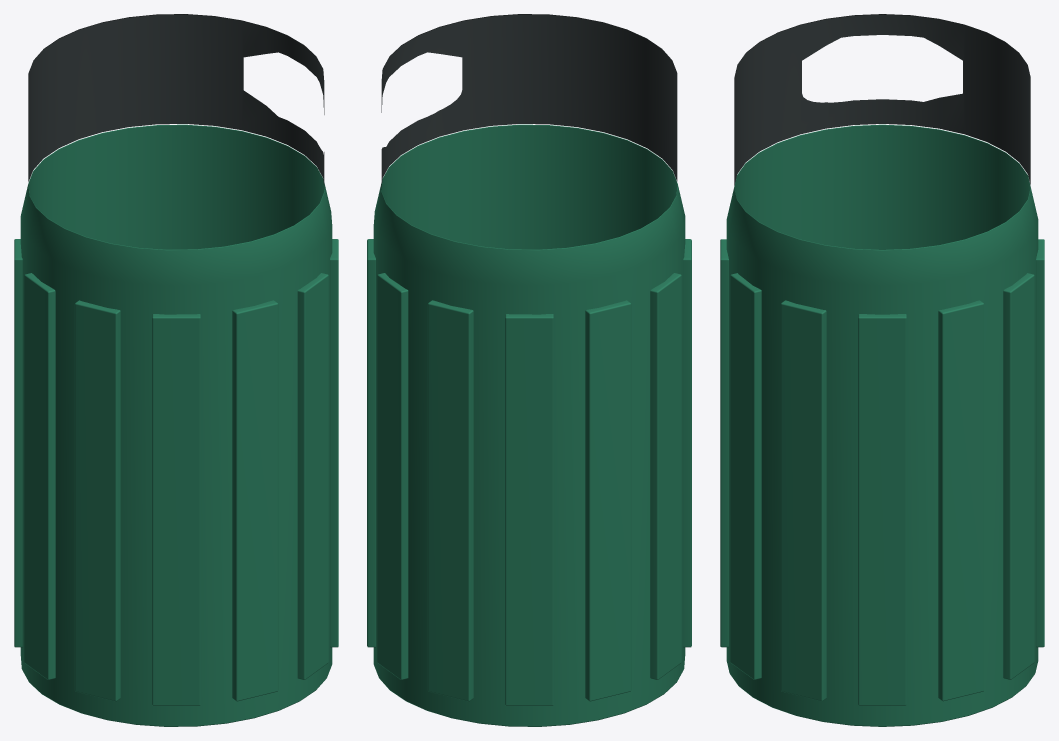
The model's file is supplied_bin.glb.
3 views of the same model, side by side, from view 1: azimuth 30°, elevation 25°; view 2: azimuth 150°, elevation 25°; view 3: azimuth 270°, elevation 25° (orthographic).
Visible parts, largest first — view 1: Cylindre, Cube, Cylindre.001; view 2: Cylindre, Cube, Cylindre.001; view 3: Cylindre, Cube, Cylindre.001.
Boxes of the visible parts, left/top/right/bottom form: Cylindre: left=20, top=124, right=332, bottom=726; Cube: left=14, top=239, right=338, bottom=705; Cylindre.001: left=28, top=14, right=324, bottom=188; Cylindre: left=373, top=124, right=685, bottom=726; Cube: left=367, top=239, right=691, bottom=705; Cylindre.001: left=381, top=14, right=677, bottom=187; Cylindre: left=726, top=124, right=1038, bottom=726; Cube: left=720, top=239, right=1044, bottom=705; Cylindre.001: left=734, top=14, right=1030, bottom=185.
Size of the model in its own units: 0.4436 by 0.9 by 0.4436.
